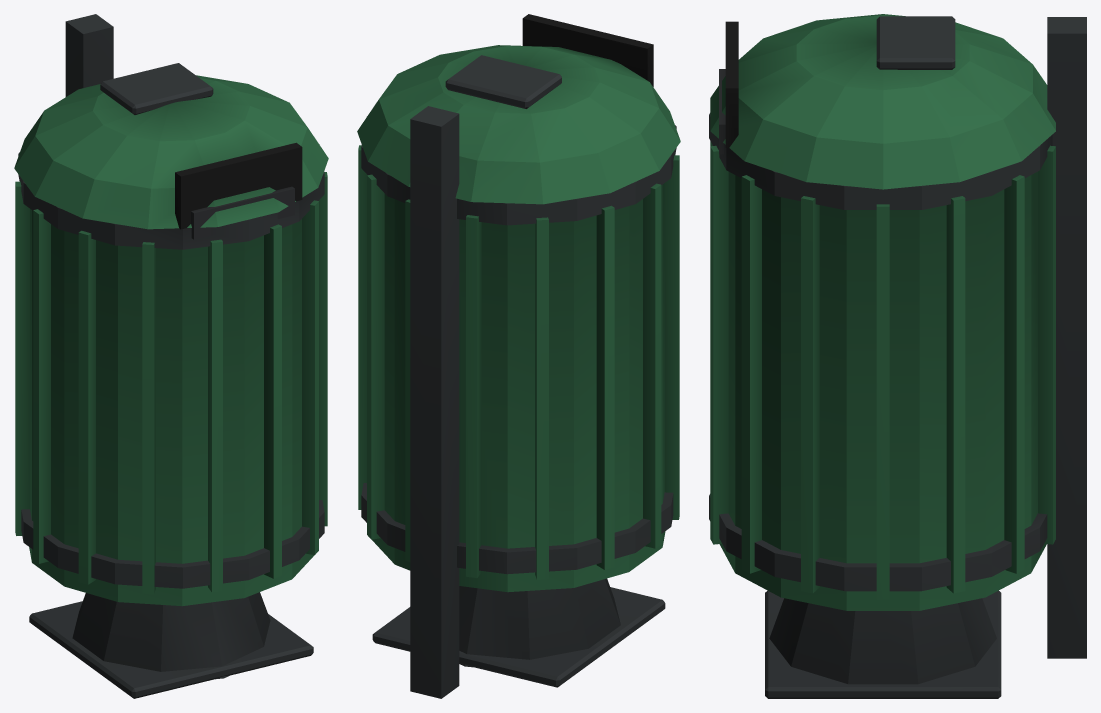
File: trash_bin.glb
3 renders of one model, left to right at view 1: azimuth 30°, elevation 25°; view 2: azimuth 150°, elevation 25°; view 3: azimuth 270°, elevation 25°, orthographic. The views are drawn at different scales.
Parts seen in each view (by area): view 1: trash_bin; view 2: trash_bin; view 3: trash_bin.
Boxes of the visible parts, bbox=[...] form: trash_bin: bbox=[14, 14, 328, 698]; trash_bin: bbox=[357, 14, 680, 698]; trash_bin: bbox=[709, 14, 1086, 698].
Bounding box in the file's own units: 0.54 × 1.05 × 0.575.
